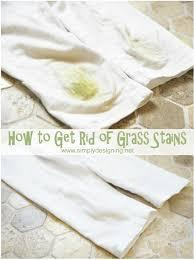earth: (67, 73, 95, 98)
